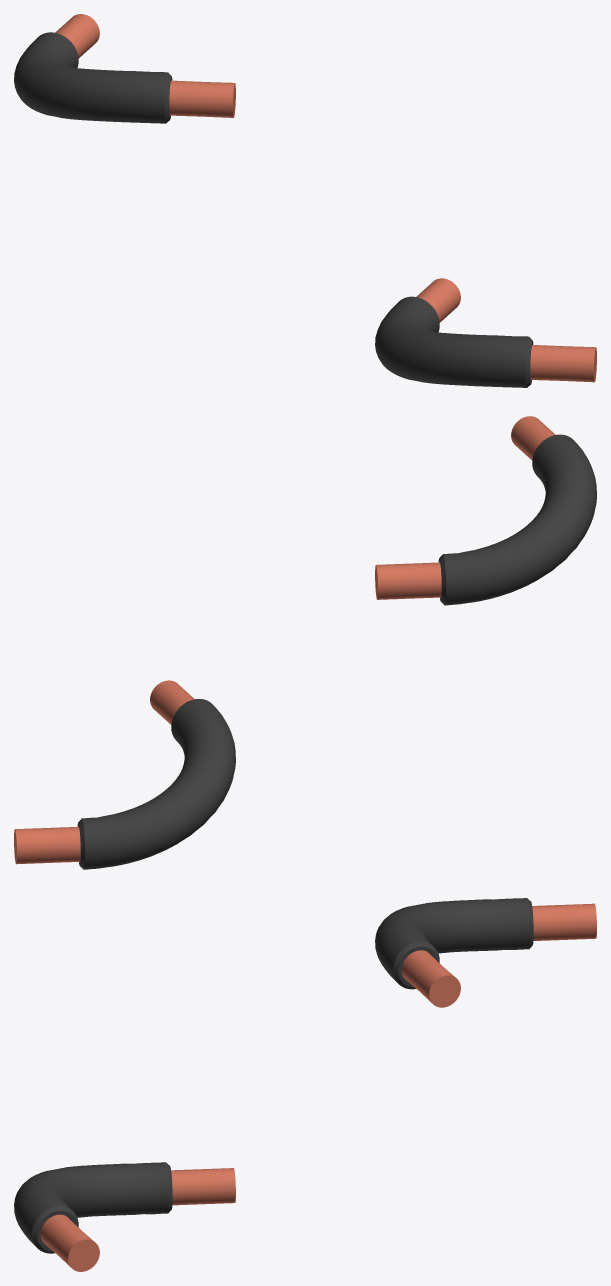
File: BATTERY CRATE STACK V2__BATTERY CRATE L4__MODULE CONNECTION CABLE ASM A__MODULE CONNECTION CABLE A.glb
The picture shows the model from 3 angles, top to bottom: view 1: azimuth 30°, elevation 25°; view 2: azimuth 150°, elevation 25°; view 3: azimuth 330°, elevation 25°; orthographic projection.
Visible parts, largest first — view 1: MODULE CONNECTION CABLE A 1, MODULE CONNECTION CABLE A 2; view 2: MODULE CONNECTION CABLE A 2, MODULE CONNECTION CABLE A 1; view 3: MODULE CONNECTION CABLE A 2, MODULE CONNECTION CABLE A 1.
Part boxes in pixels (x1,y1,x2,y2): MODULE CONNECTION CABLE A 1: [14, 14, 235, 123]; MODULE CONNECTION CABLE A 2: [375, 278, 596, 387]; MODULE CONNECTION CABLE A 2: [375, 416, 596, 605]; MODULE CONNECTION CABLE A 1: [14, 680, 235, 869]; MODULE CONNECTION CABLE A 2: [14, 1162, 235, 1271]; MODULE CONNECTION CABLE A 1: [375, 898, 596, 1007].
Bounding box in the file's own units: 0.0618 × 0.0379 × 0.418.
